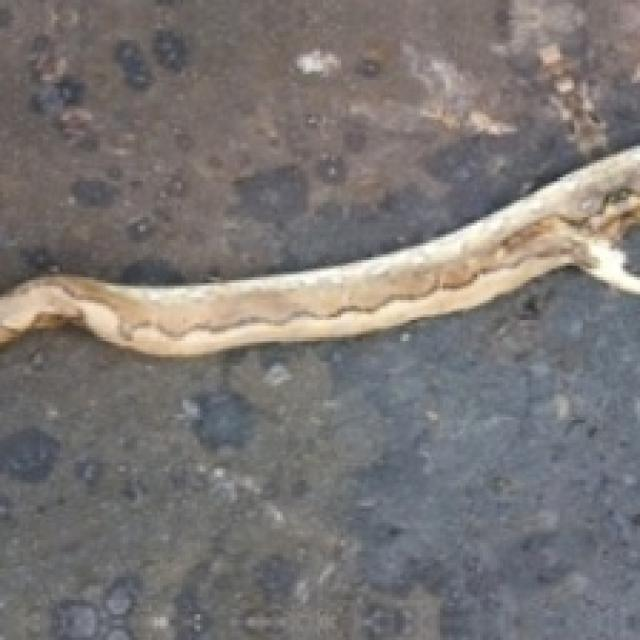reticulated python: (0, 146, 637, 354)
